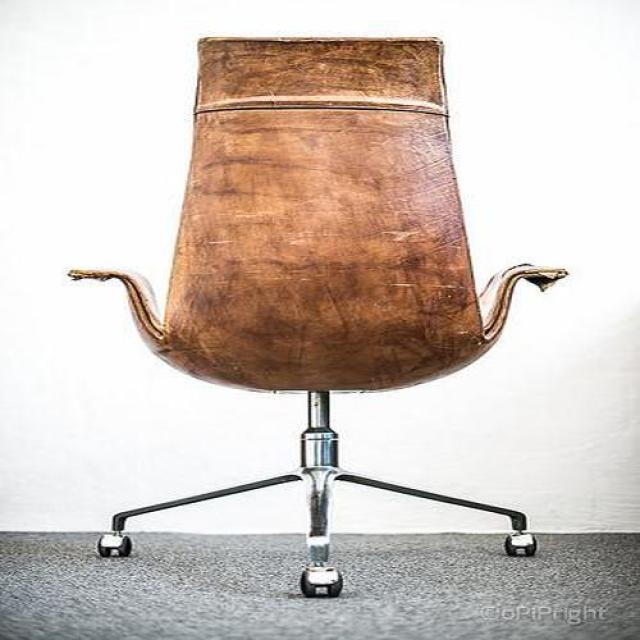swivelchair: (68, 37, 571, 599)
